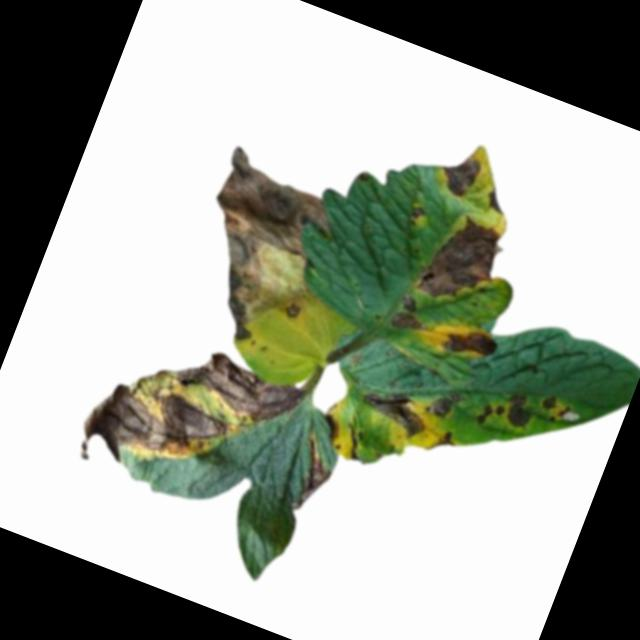Early_blight: (169, 142, 352, 362), (72, 366, 252, 510), (152, 333, 309, 437), (410, 205, 512, 319), (354, 377, 433, 442), (282, 434, 341, 518), (434, 314, 505, 371), (433, 148, 484, 206), (389, 290, 433, 337), (502, 393, 539, 432), (535, 391, 573, 428), (428, 422, 463, 457), (429, 389, 465, 423), (481, 185, 512, 218), (475, 400, 508, 431), (318, 411, 347, 441), (406, 204, 428, 233)
